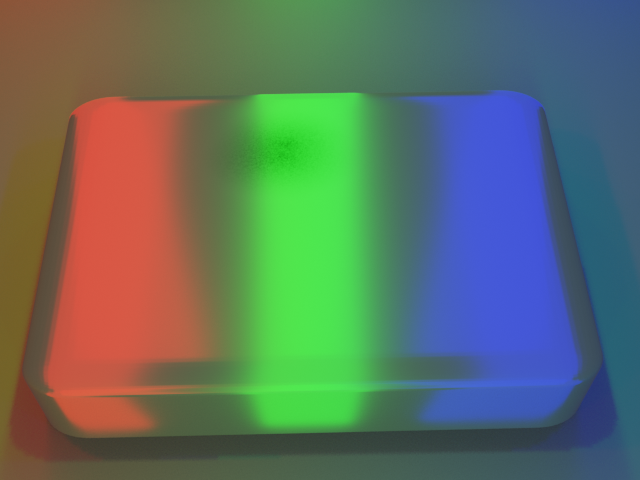stain: (161, 86, 391, 207)
